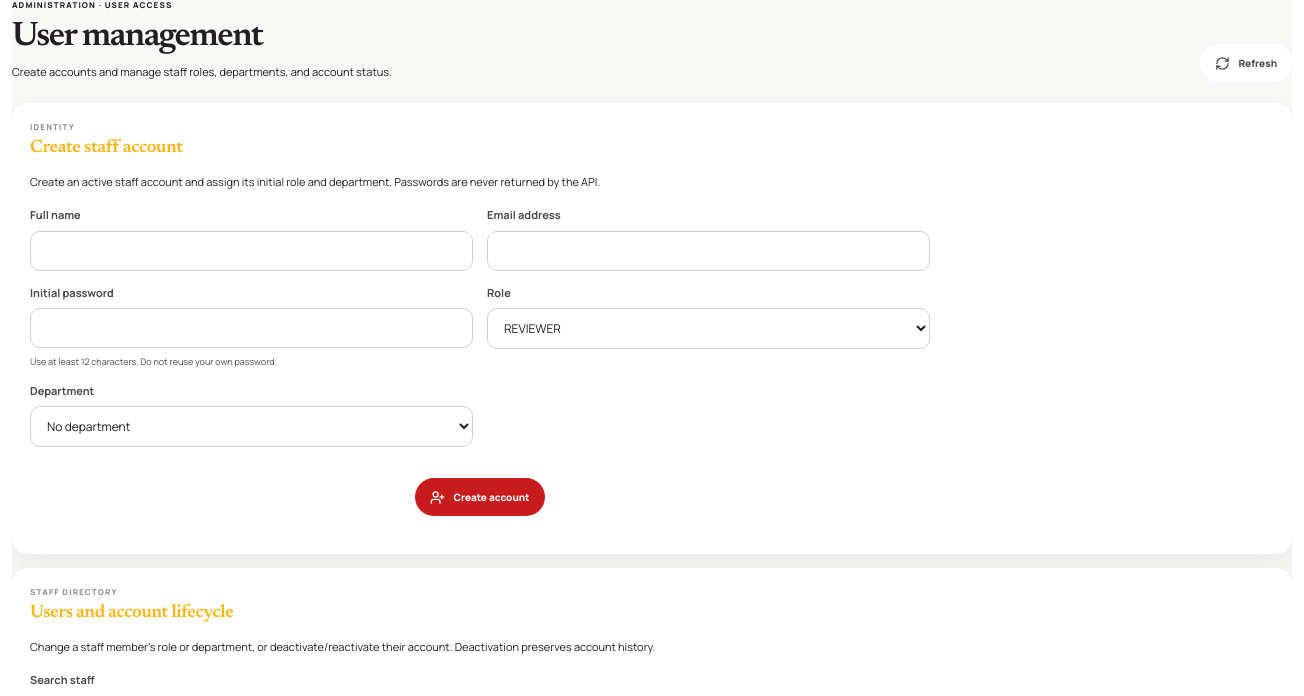
Scenario: UserManagementPage › creates a staff account with its initial role and department
The width and height of the screenshot is (1304, 696).
Type "Amina Okello" into the field labelled "Full name" at (252, 251), box [30,231,473,271]
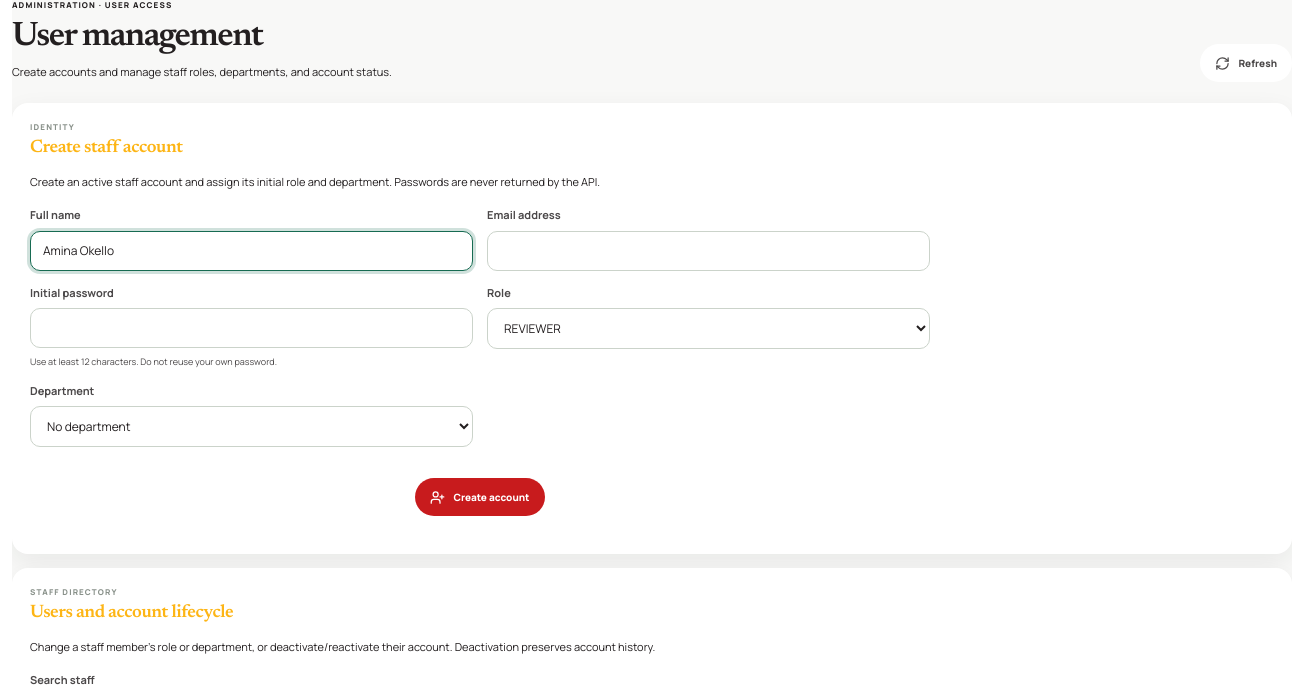
Type "amina.okello@unipod.test" into the field labelled "Email address" at (708, 251), box [487,231,930,271]
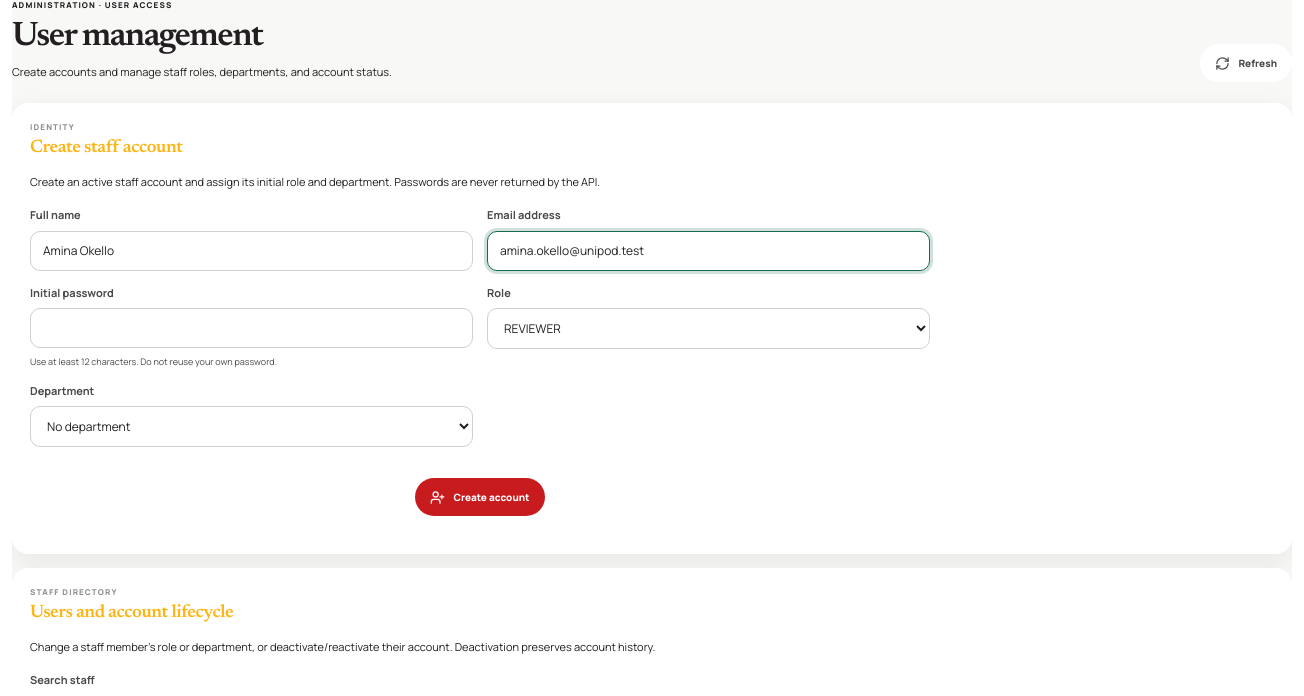
Type "AnInitialPassword123" into the password field labelled "Initial password" at (252, 328), box [30,308,473,348]
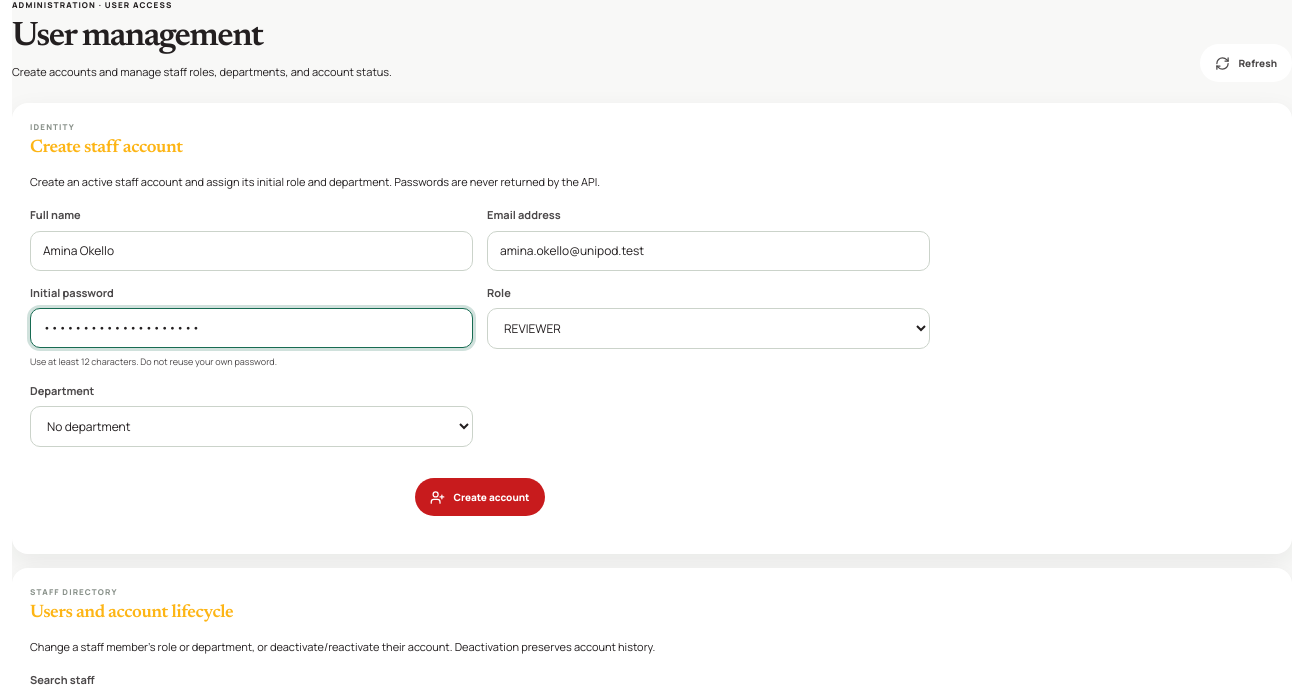
Select "FINANCE_OFFICER" in the dropdown labelled "Role" at (708, 329), box [487,308,930,349]
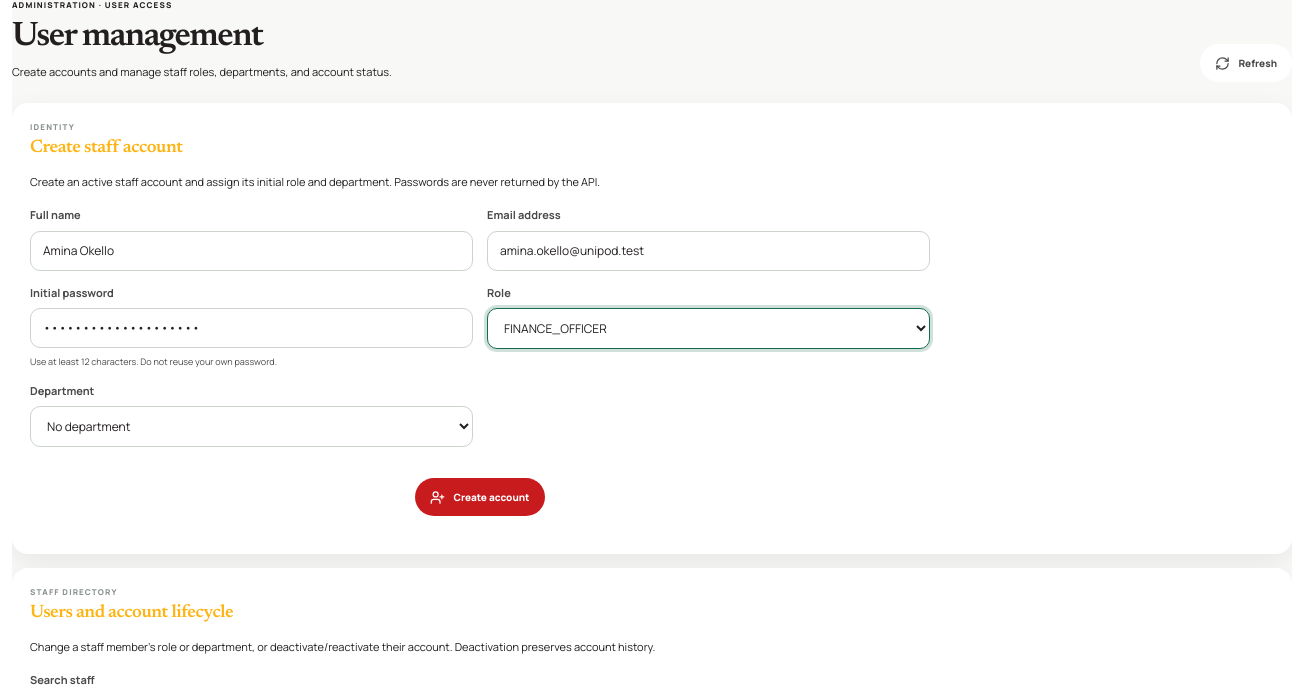
Select "Finance" in the dropdown labelled "Department" at (252, 427), box [30,406,473,447]
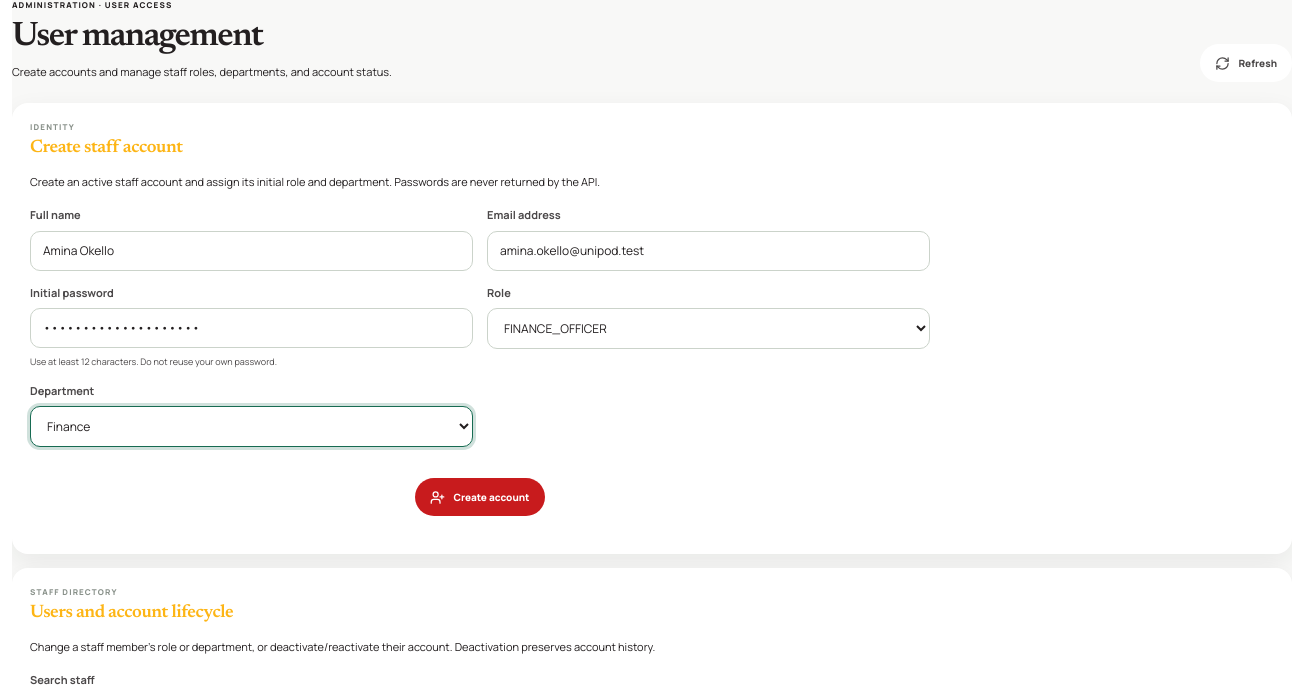
Click the button "Create account" at (480, 497), box [415,478,544,516]
(page scrolled)
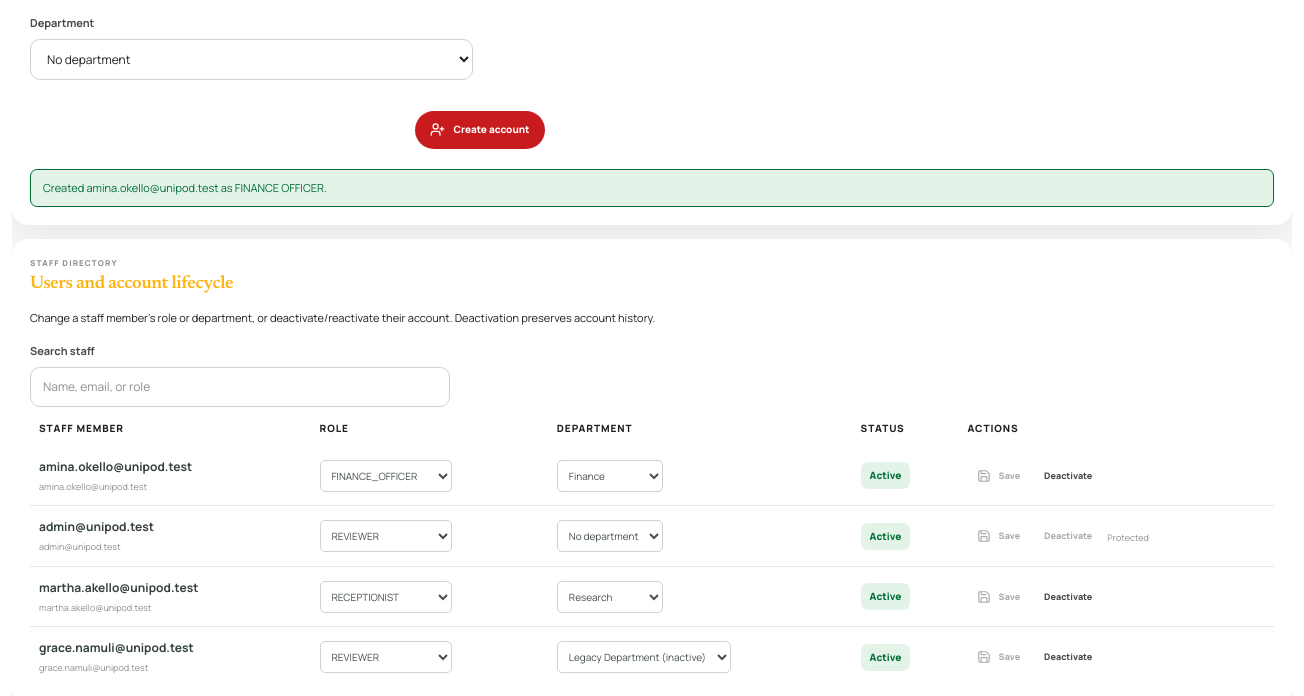
Check: the text "Created amina.okello@unipod.test as FINANCE OFFICER." is shown, box [30,169,1274,207]
Check: the dropdown named "Role for amina.okello@unipod.test" shows "FINANCE_OFFICER", box [320,460,452,492]
Check: the dropdown named "Department for amina.okello@unipod.test" shows "Finance", box [557,460,663,492]
